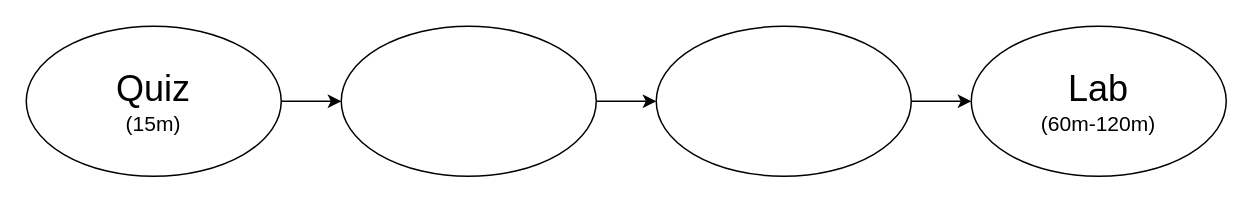
This 1253x203 diagram has some shape labels left out. Here are the shapes that lost their labels. From the top down, the centre of each, then its label:
the point at 468,100: Notes (30m-60m)
the point at 783,100: Application Exercises (30m)
